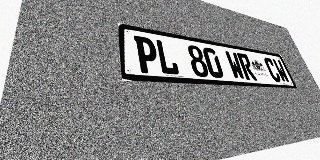0: (202, 47, 225, 78)
8: (186, 44, 210, 77)
C: (263, 57, 282, 82)
L: (155, 39, 180, 75)
P: (134, 35, 160, 74)
R: (236, 53, 257, 81)
W: (224, 51, 246, 80), (272, 59, 291, 83)
